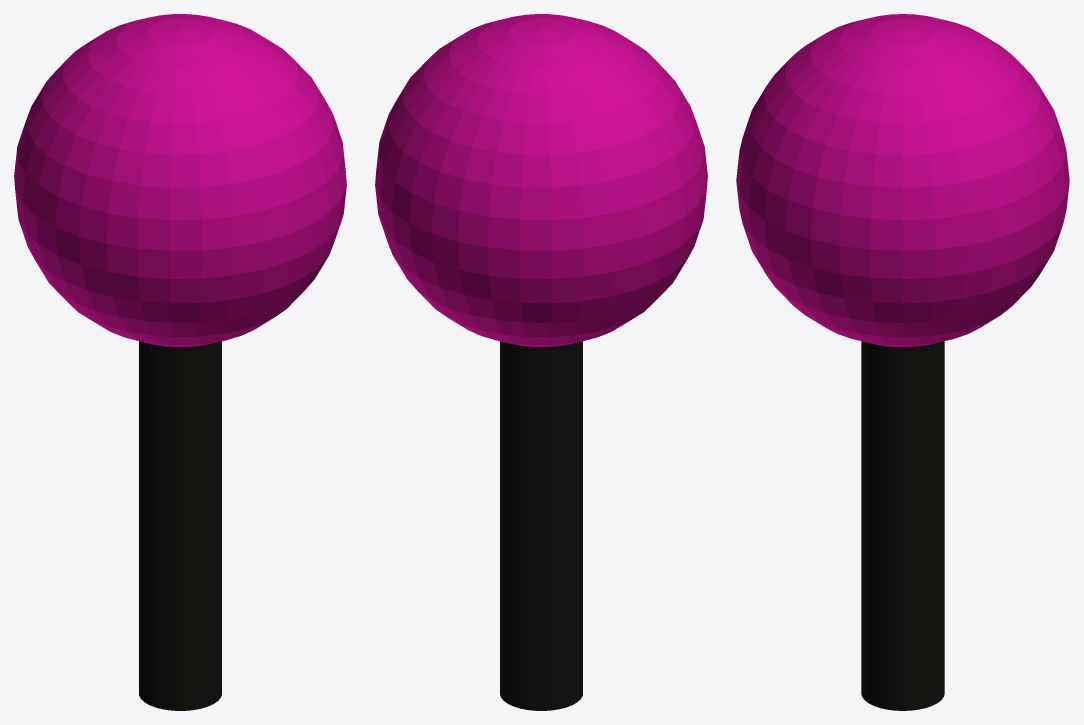
The model's file is lollypop.obj.
3 views of the same model, side by side, from view 1: azimuth 30°, elevation 25°; view 2: azimuth 150°, elevation 25°; view 3: azimuth 270°, elevation 25° (orthographic).
Parts seen in each view (by area): view 1: Sphere, Cylinder; view 2: Sphere, Cylinder; view 3: Sphere, Cylinder.
Part boxes in pixels (x1,y1,x2,y2): Sphere: (14, 14, 346, 346); Cylinder: (139, 341, 221, 710); Sphere: (375, 14, 707, 346); Cylinder: (500, 341, 582, 710); Sphere: (736, 14, 1069, 347); Cylinder: (861, 341, 944, 710).
Size of the model in its own units: 4 by 8.79 by 4.
